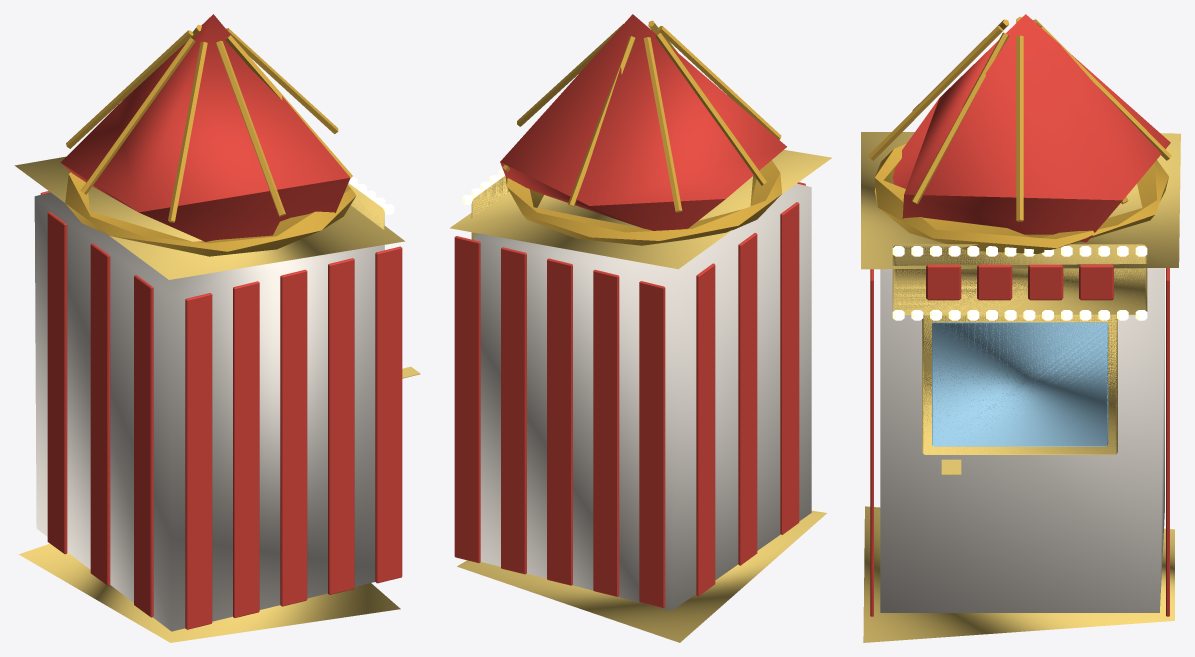
Rendered from ticket_booth.glb.
3 renders of one model, left to right at view 1: azimuth 30°, elevation 25°; view 2: azimuth 150°, elevation 25°; view 3: azimuth 270°, elevation 25°, orthographic. The views are drawn at different scales.
Parts seen in each view (by area): view 1: ticket_booth; view 2: ticket_booth; view 3: ticket_booth.
Boxes of the visible parts, x1=… form: ticket_booth: x1=14, y1=14, x2=420, y2=642; ticket_booth: x1=450, y1=14, x2=831, y2=642; ticket_booth: x1=861, y1=14, x2=1180, y2=642.
Size of the model in its own units: 1.81 by 3.24 by 1.63.
1 material, 1 textured.
